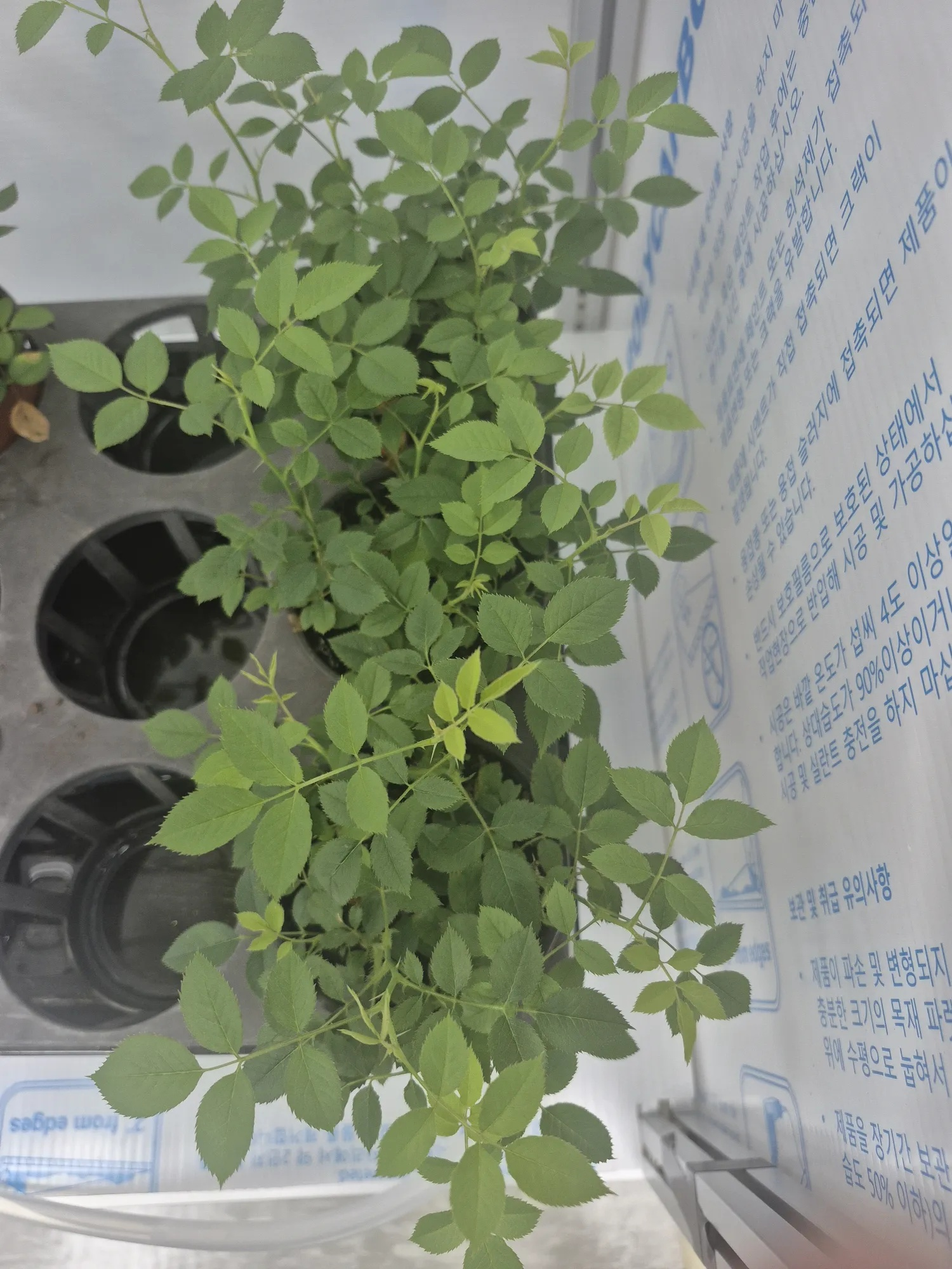Fresh Leaves: (259, 734, 626, 1148), (145, 650, 397, 921), (521, 719, 720, 962), (145, 676, 310, 910), (390, 905, 579, 1102), (237, 935, 420, 1131), (519, 735, 676, 919), (241, 480, 371, 634), (513, 961, 637, 1097), (411, 1140, 539, 1268), (609, 720, 746, 838), (633, 924, 750, 1062), (524, 733, 647, 858), (415, 796, 536, 910), (180, 353, 289, 473), (324, 663, 435, 777), (435, 393, 545, 506), (579, 846, 677, 970), (195, 675, 293, 797), (531, 198, 630, 314), (306, 177, 401, 294), (253, 238, 379, 325), (596, 362, 703, 457), (380, 449, 472, 559), (636, 953, 726, 1061), (234, 72, 345, 157), (90, 1033, 202, 1117), (195, 0, 310, 81), (93, 331, 168, 452), (434, 494, 521, 596), (414, 317, 497, 423), (531, 500, 640, 580), (318, 296, 410, 385), (215, 301, 296, 402), (415, 1015, 484, 1133), (538, 576, 628, 664), (176, 513, 252, 616), (504, 1134, 611, 1207), (370, 383, 448, 477), (312, 440, 392, 530), (195, 1065, 255, 1183), (522, 661, 600, 750), (433, 666, 516, 749), (178, 952, 244, 1056), (437, 478, 526, 554), (303, 375, 382, 459), (371, 107, 467, 176), (473, 1056, 546, 1141), (417, 170, 503, 241), (523, 834, 578, 944), (327, 596, 407, 670), (543, 897, 616, 975), (630, 484, 711, 554), (300, 300, 366, 380), (596, 787, 676, 853), (472, 184, 545, 256), (369, 509, 451, 570), (376, 1108, 448, 1177), (178, 353, 235, 439), (347, 344, 420, 410), (490, 325, 571, 384), (631, 77, 713, 135), (666, 717, 720, 804), (441, 150, 514, 214), (160, 51, 234, 112), (479, 592, 546, 659), (505, 468, 558, 550), (541, 1103, 612, 1164), (371, 26, 451, 79), (452, 277, 516, 343), (201, 256, 255, 333), (293, 717, 355, 784), (161, 921, 239, 972), (140, 708, 218, 758), (484, 252, 546, 314), (435, 575, 487, 647), (538, 358, 600, 418), (324, 674, 371, 753), (275, 311, 333, 375), (239, 651, 291, 722), (17, 1, 87, 51), (684, 800, 772, 839), (474, 98, 530, 158), (258, 349, 305, 419), (492, 546, 543, 610), (591, 124, 638, 192), (94, 393, 149, 451), (413, 709, 467, 767), (477, 655, 536, 707), (340, 49, 387, 114), (658, 874, 714, 928), (130, 165, 187, 218), (123, 330, 169, 394), (527, 28, 595, 70), (237, 201, 282, 264), (357, 651, 427, 691), (624, 496, 671, 555), (483, 226, 538, 275), (189, 187, 239, 240), (17, 1, 68, 51), (506, 503, 553, 557), (626, 72, 678, 120), (430, 119, 473, 177), (216, 306, 260, 360), (645, 103, 715, 136), (702, 971, 750, 1018), (270, 185, 310, 241), (407, 299, 452, 348), (554, 421, 593, 477), (541, 481, 582, 534), (411, 87, 465, 125), (232, 864, 271, 916), (236, 904, 281, 949), (227, 80, 296, 109), (514, 137, 558, 182), (353, 1081, 381, 1151), (696, 923, 741, 966), (631, 176, 695, 206), (246, 941, 279, 999), (460, 39, 499, 88), (604, 405, 639, 459), (481, 697, 521, 744), (604, 119, 644, 164), (567, 634, 623, 666), (646, 485, 704, 515), (664, 527, 715, 561), (7, 347, 51, 386), (559, 358, 602, 397), (534, 348, 578, 385), (618, 938, 664, 973), (268, 418, 323, 447), (573, 938, 616, 975), (633, 853, 684, 884), (524, 184, 552, 239), (0, 295, 22, 365), (597, 197, 637, 235), (524, 203, 552, 257), (546, 390, 600, 418), (591, 74, 619, 126), (294, 233, 330, 273), (515, 318, 563, 348), (244, 943, 268, 1003), (185, 239, 241, 264), (626, 553, 658, 596), (558, 119, 600, 150), (463, 385, 497, 422), (532, 379, 562, 419), (8, 306, 54, 331), (566, 358, 597, 392), (251, 650, 279, 687), (535, 166, 573, 192), (588, 480, 616, 515), (666, 948, 703, 973), (171, 145, 193, 181), (0, 295, 16, 334)
